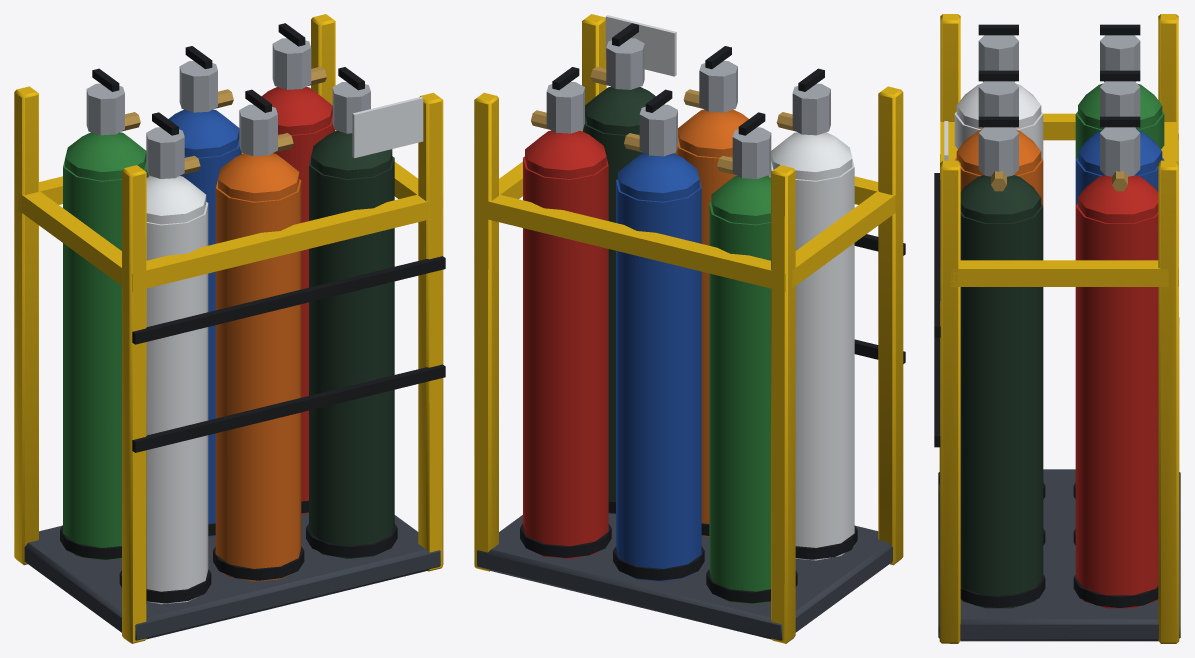
Rendered from barrel_gas_cylinder_rack.glb.
3 views of the same model, side by side, from view 1: azimuth 30°, elevation 25°; view 2: azimuth 150°, elevation 25°; view 3: azimuth 270°, elevation 25° (orthographic).
Parts seen in each view (by area): view 1: barrel_gas_cylinder_rack; view 2: barrel_gas_cylinder_rack; view 3: barrel_gas_cylinder_rack.
Part boxes in pixels (x1=…): barrel_gas_cylinder_rack: x1=14, y1=14, x2=445, y2=643; barrel_gas_cylinder_rack: x1=474, y1=14, x2=905, y2=643; barrel_gas_cylinder_rack: x1=934, y1=14, x2=1180, y2=643.
Bounding box in the file's own units: 0.91 × 1.35 × 0.61.
